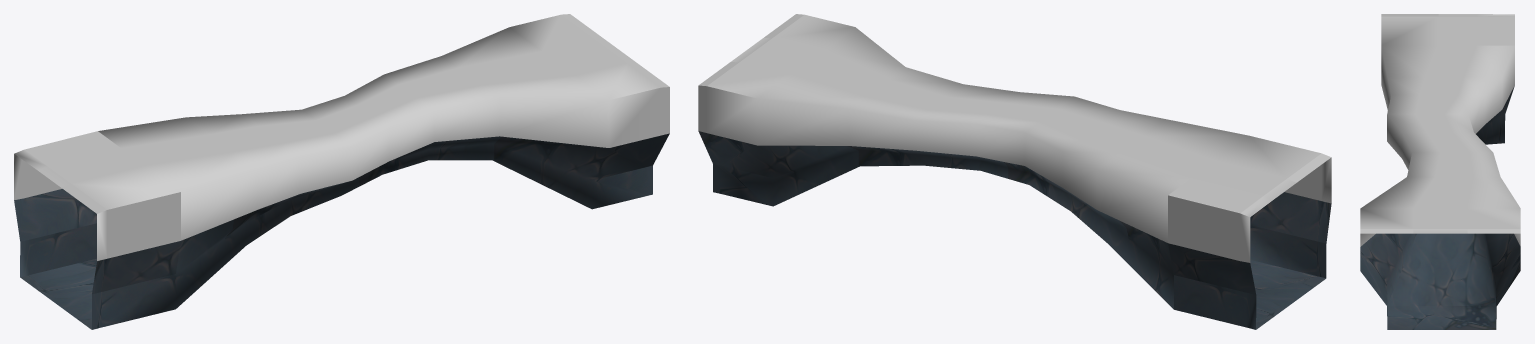
The model's file is TwistedJungle_Bridge01.FBX.
The picture shows the model from 3 angles, left to right: view 1: azimuth 30°, elevation 25°; view 2: azimuth 150°, elevation 25°; view 3: azimuth 270°, elevation 25°; orthographic projection. The views are drawn at different scales.
Parts seen in each view (by area): view 1: TwistedJungle_Bridge01; view 2: TwistedJungle_Bridge01; view 3: TwistedJungle_Bridge01.
Part boxes in pixels (x1,y1,x2,y2): TwistedJungle_Bridge01: [14, 14, 669, 329]; TwistedJungle_Bridge01: [698, 14, 1331, 329]; TwistedJungle_Bridge01: [1360, 14, 1520, 329].
Size of the model in its own units: 1170 by 243 by 362.
